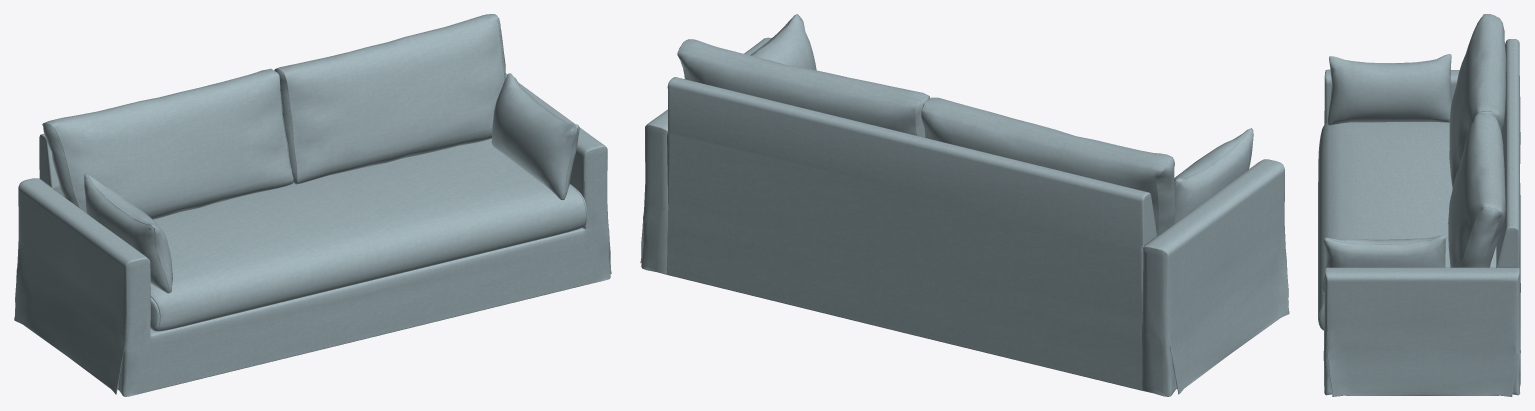
The model's file is 14 - HYLTARP 3-seat sofa - Kilanda pale blue.glb.
3 views of the same model, side by side, from view 1: azimuth 30°, elevation 25°; view 2: azimuth 150°, elevation 25°; view 3: azimuth 270°, elevation 25° (orthographic). The views are drawn at different scales.
Visible parts, largest first — view 1: Mesh_0; view 2: Mesh_0; view 3: Mesh_0.
Part boxes in pixels (x1,y1,x2,y2): Mesh_0: (14,14,611,396); Mesh_0: (640,14,1289,396); Mesh_0: (1318,14,1520,396).
Bounding box in the file's own units: 2.32 × 0.91 × 0.93.
Materials: 1 (1 with a texture image).
